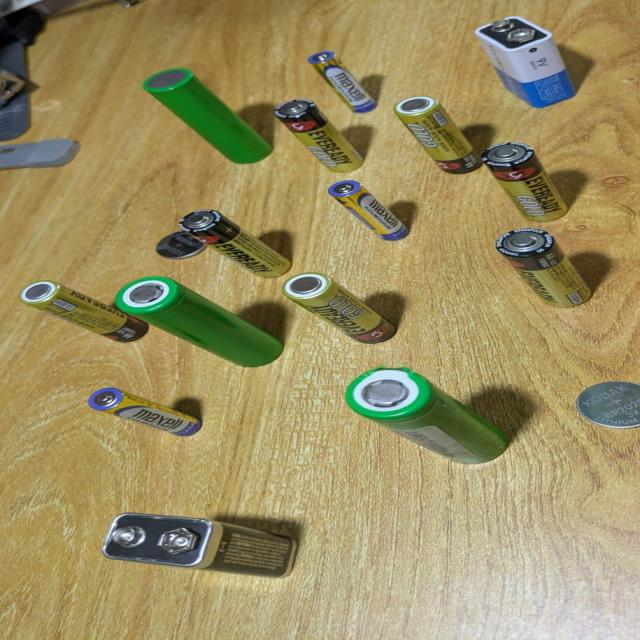9V: (99, 511, 301, 579), (472, 15, 576, 106)
AA: (21, 280, 149, 343), (282, 274, 395, 345), (177, 210, 293, 276), (495, 228, 592, 306), (276, 100, 366, 174), (392, 97, 479, 173), (482, 144, 569, 220)
AAA: (80, 377, 212, 443), (322, 175, 420, 247), (298, 44, 384, 117)
COIN: (574, 382, 640, 430), (155, 231, 208, 259)
